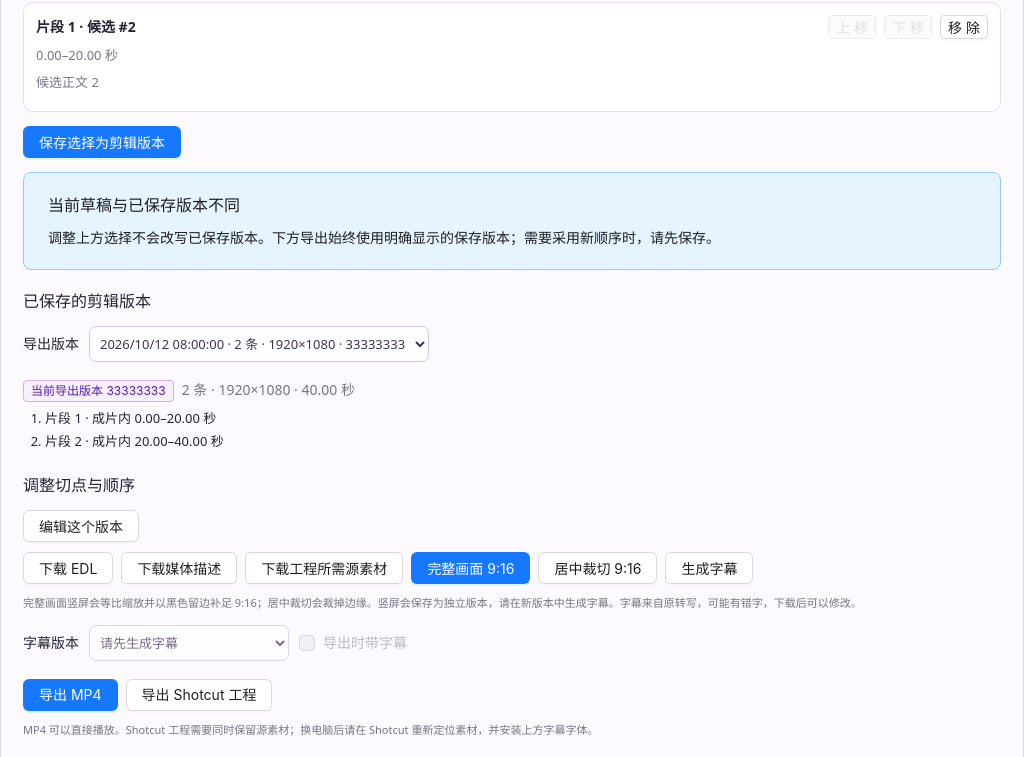
it: export workbench › does not add a selected candidate that is missing from the saved snapshot
(page scrolled)
Click the button "编辑这个版本" at {"x": 81, "y": 526}, box [23, 510, 139, 542]
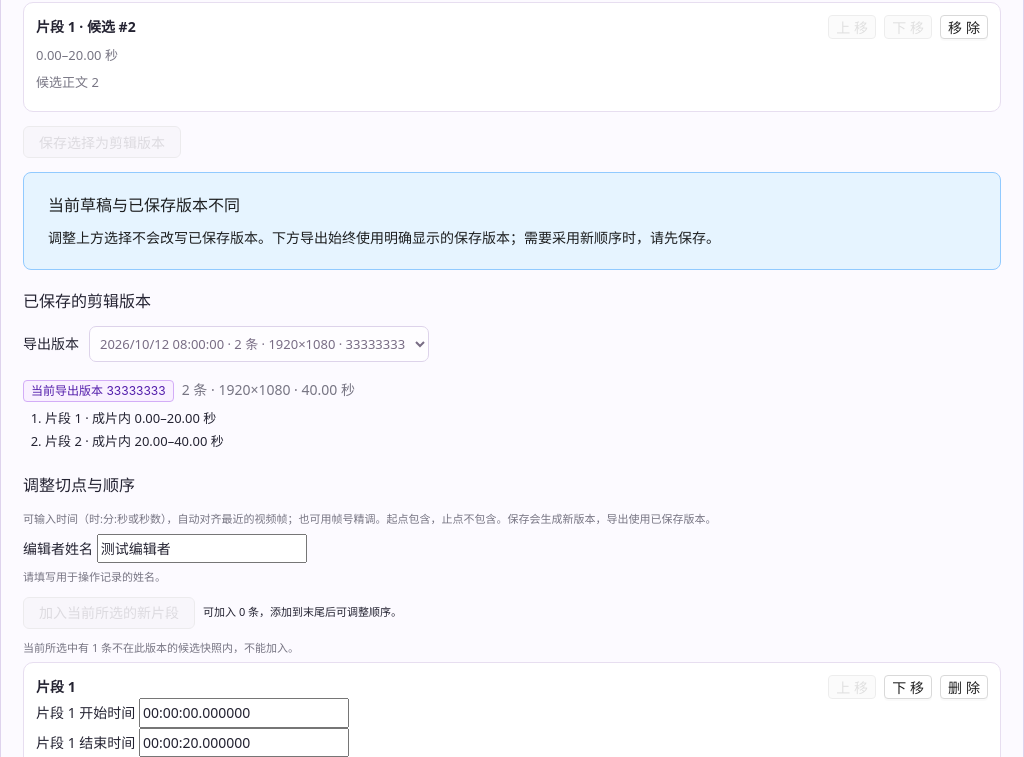
expect the button "加入当前所选的新片段" is disabled: met, box [23, 597, 195, 629]
expect the text "当前所选中有 1 条不在此版本的候选快照内，不能加入。" is shown: met, box [23, 640, 299, 655]
